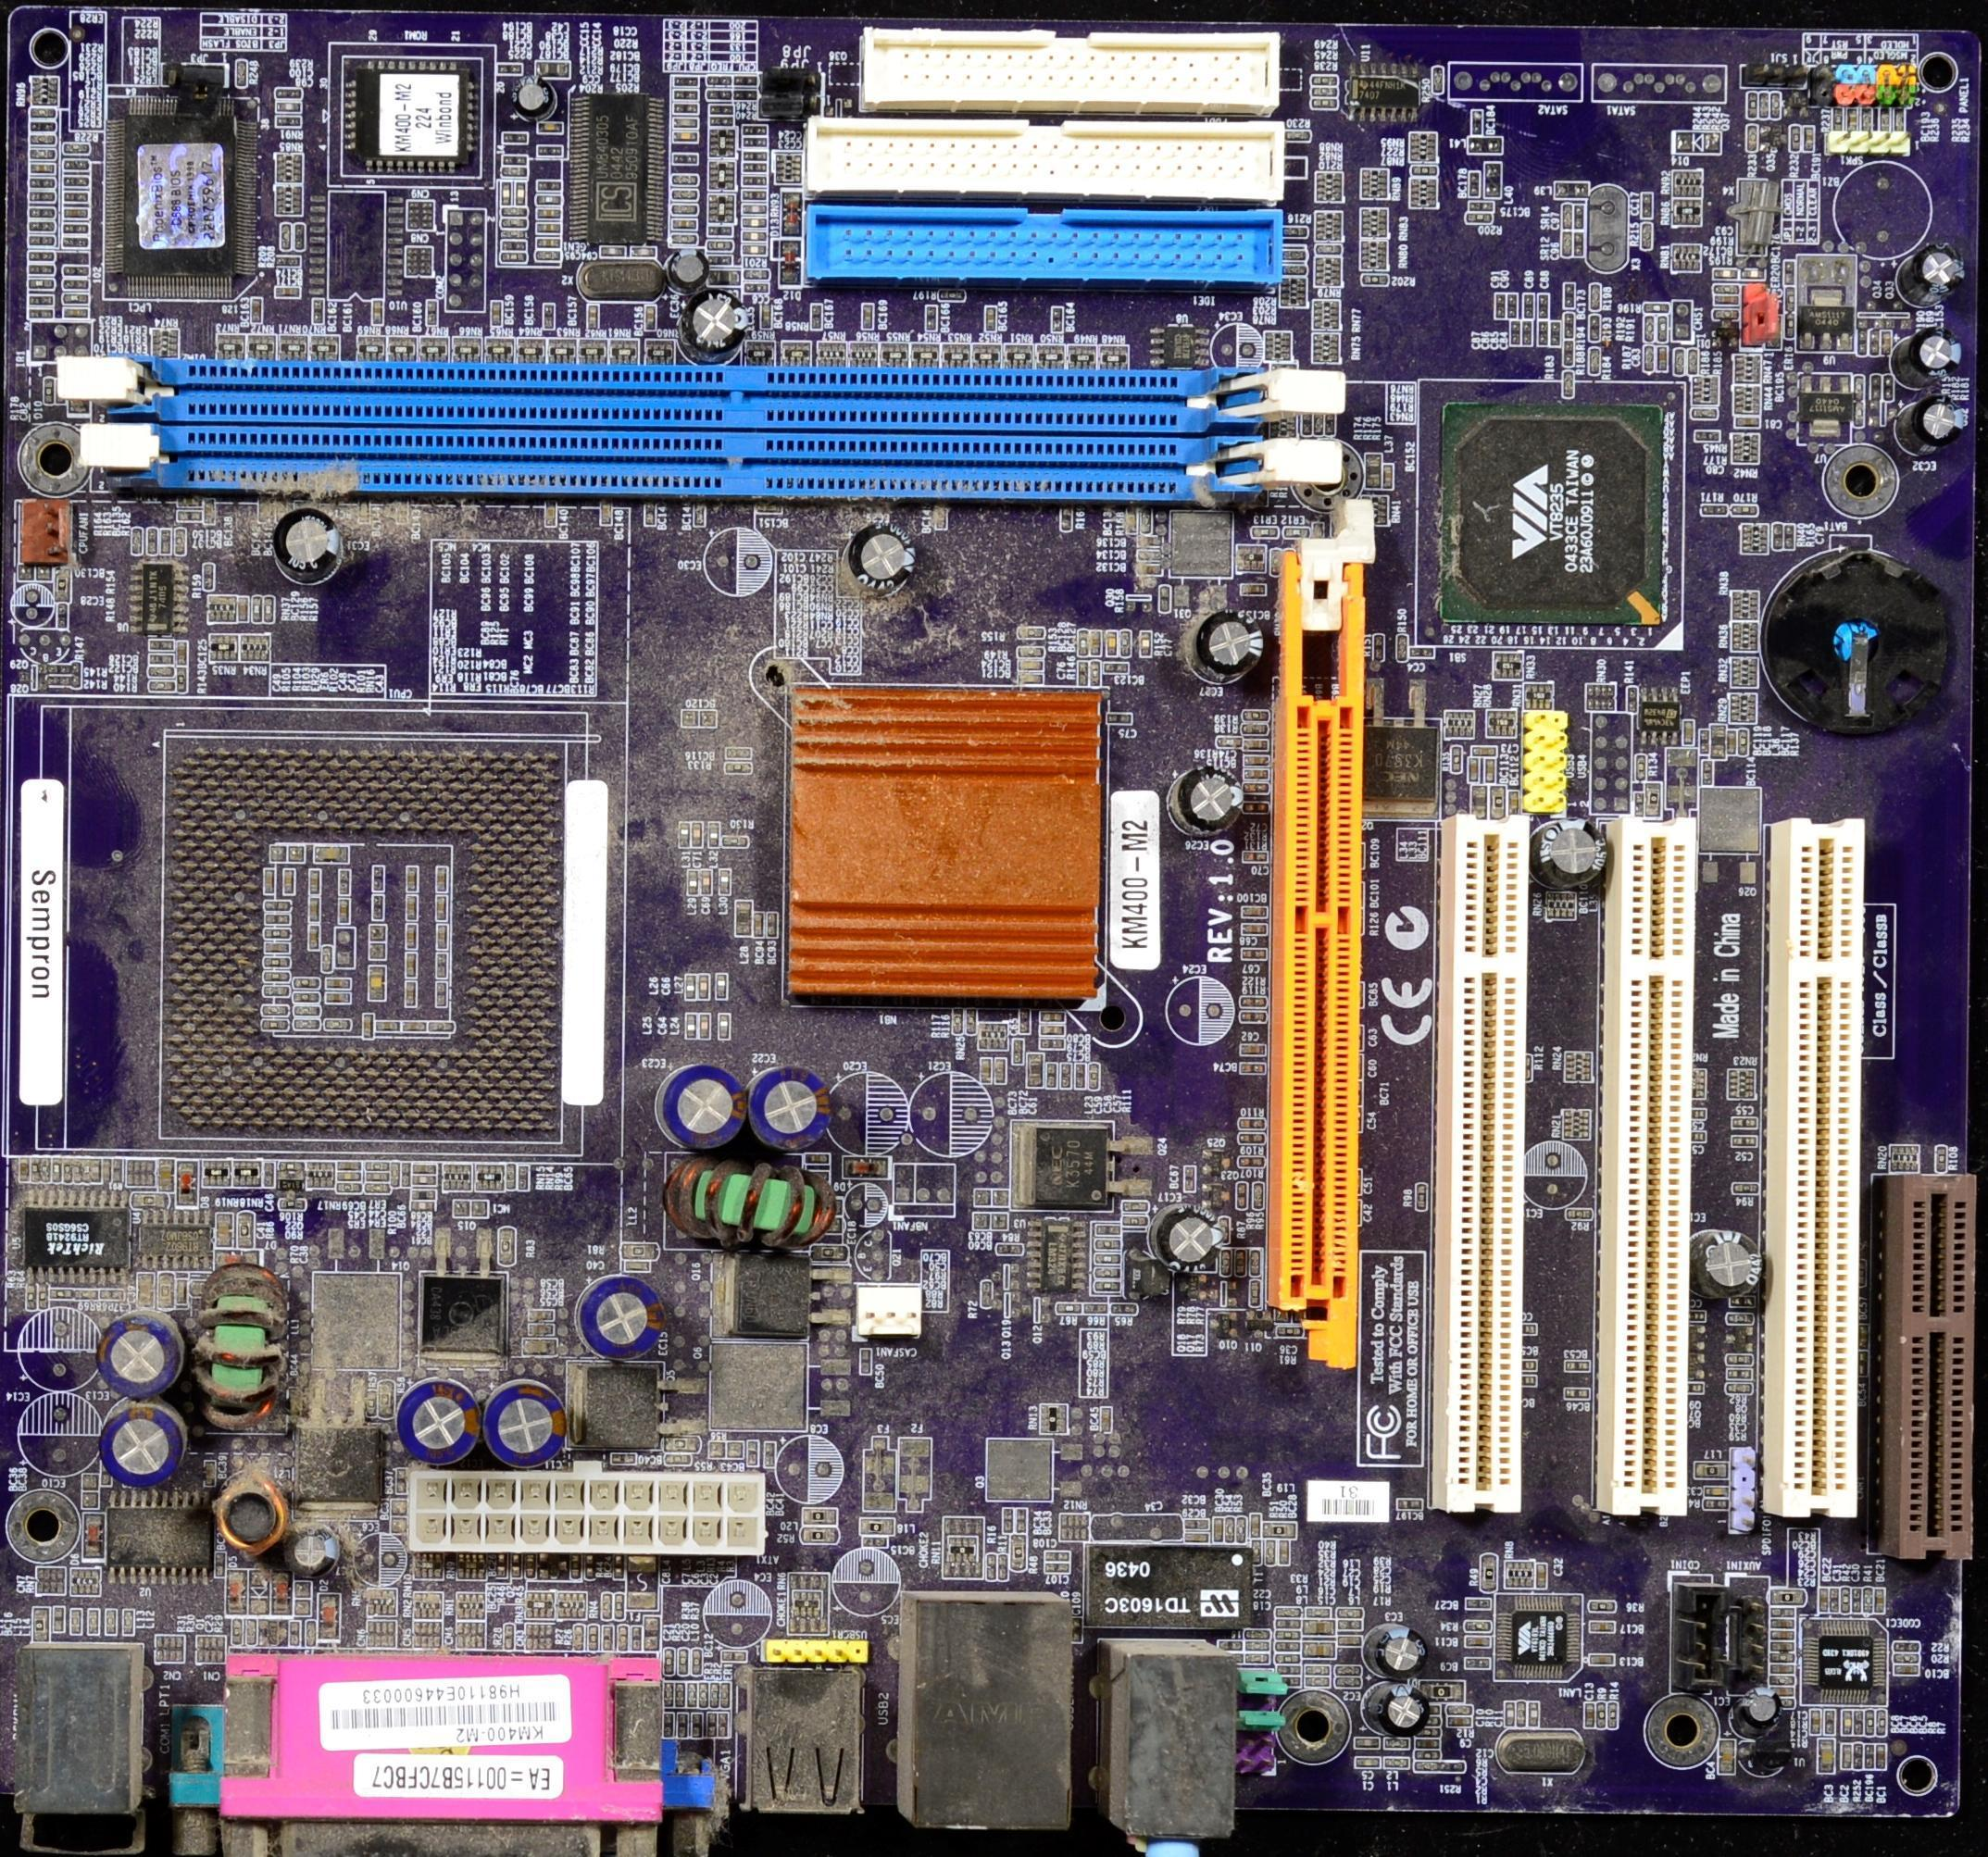Capacitor: (1531, 806, 1612, 888), (1690, 1230, 1770, 1302), (1378, 1682, 1432, 1741), (1375, 1626, 1434, 1675), (1010, 1536, 1026, 1575), (1301, 1642, 1338, 1657), (1444, 1712, 1475, 1727), (499, 179, 515, 209), (1534, 291, 1549, 322), (337, 1158, 365, 1174), (217, 1216, 232, 1244), (1704, 1483, 1732, 1499), (1520, 321, 1535, 349), (1729, 1116, 1758, 1131), (663, 1647, 677, 1677), (1731, 1132, 1758, 1148), (333, 1182, 360, 1197), (1494, 293, 1509, 319), (1303, 1625, 1334, 1637), (1829, 1582, 1839, 1616), (1584, 1696, 1595, 1731), (1507, 294, 1519, 321), (1502, 1701, 1515, 1726), (1522, 294, 1535, 319), (1538, 323, 1551, 346), (1047, 1549, 1069, 1563), (1042, 1564, 1070, 1575), (1510, 319, 1520, 348), (1528, 1703, 1539, 1726), (1241, 951, 1265, 961), (619, 1261, 646, 1268), (1244, 924, 1266, 933), (1854, 1585, 1861, 1616), (515, 182, 524, 206), (1539, 1561, 1546, 1590), (1012, 1041, 1022, 1061), (277, 104, 300, 112), (336, 1172, 360, 1180), (1770, 1663, 1792, 1673), (502, 240, 525, 247), (435, 868, 444, 892), (698, 1010, 706, 1038), (693, 821, 699, 848), (1252, 1514, 1259, 1541), (1775, 1689, 1795, 1697), (1140, 635, 1148, 655), (1079, 661, 1086, 685), (702, 869, 708, 894), (1574, 208, 1582, 227), (747, 232, 767, 241), (1573, 232, 1581, 251), (1657, 348, 1664, 370), (1694, 432, 1715, 440), (1107, 634, 1113, 655), (1242, 741, 1264, 746), (407, 867, 414, 891), (1245, 770, 1263, 778), (1244, 1046, 1258, 1053), (1766, 1631, 1792, 1637), (290, 1624, 297, 1643), (635, 247, 655, 255), (1745, 271, 1764, 277), (1411, 650, 1429, 655), (1690, 1109, 1701, 1119), (1728, 1373, 1751, 1378), (696, 1653, 701, 1675), (700, 978, 707, 995), (1359, 1740, 1376, 1747), (1358, 1760, 1380, 1765), (1643, 195, 1649, 211), (1553, 324, 1559, 345), (1788, 525, 1793, 546), (366, 1173, 386, 1178), (278, 120, 296, 126), (1478, 745, 1493, 752), (267, 1166, 272, 1184), (1773, 1645, 1791, 1651), (745, 206, 763, 212), (1719, 271, 1731, 278), (746, 246, 762, 252), (1051, 1066, 1054, 1087), (1022, 1012, 1026, 1032), (1062, 1068, 1065, 1087), (1079, 1067, 1082, 1085), (744, 221, 762, 226), (1697, 1134, 1703, 1141), (1771, 1623, 1790, 1626)
Connector: (195, 436, 1161, 482), (181, 371, 1157, 415), (1795, 849, 1852, 1490), (1624, 852, 1680, 1514), (1298, 671, 1352, 1293), (1466, 825, 1504, 1481), (1912, 1186, 1964, 1531)
IC: (581, 95, 654, 235), (20, 1206, 138, 1270), (111, 1506, 206, 1565), (1510, 1608, 1569, 1667), (1030, 1221, 1078, 1289), (1803, 286, 1856, 343), (1821, 1631, 1872, 1686), (1807, 380, 1848, 433), (148, 1223, 208, 1259), (1353, 77, 1414, 106), (145, 567, 169, 630), (1646, 695, 1675, 732), (1168, 329, 1190, 367), (1757, 1746, 1784, 1770), (1734, 418, 1759, 429)
Resistor: (1481, 1551, 1499, 1593), (1060, 1513, 1086, 1540), (234, 57, 249, 91), (1057, 506, 1075, 534), (1932, 1145, 1948, 1175), (1017, 644, 1045, 659), (270, 89, 307, 101), (239, 1215, 254, 1246), (1304, 1672, 1332, 1688), (1465, 209, 1493, 226), (1077, 624, 1090, 658), (1014, 627, 1044, 640), (743, 159, 768, 174), (1701, 502, 1729, 517), (670, 87, 698, 102), (743, 123, 770, 138), (743, 188, 770, 203), (1307, 87, 1339, 99), (1789, 122, 1801, 153), (1335, 1608, 1367, 1620), (1588, 281, 1601, 313), (499, 1230, 514, 1256), (1272, 1622, 1307, 1632), (1307, 1664, 1333, 1677), (740, 135, 769, 146), (1863, 1587, 1874, 1615), (678, 1650, 689, 1679), (1515, 1699, 1528, 1728), (1732, 505, 1761, 517), (174, 527, 187, 556), (1311, 73, 1340, 86), (706, 115, 734, 127), (1275, 1608, 1305, 1620), (1465, 1621, 1492, 1633), (1143, 509, 1156, 538), (204, 564, 217, 592), (669, 152, 702, 163), (1891, 1640, 1922, 1651), (1002, 1510, 1015, 1537), (1244, 1626, 1270, 1639), (146, 530, 158, 555), (149, 679, 175, 692), (1634, 754, 1646, 779), (708, 90, 731, 103), (1019, 1508, 1031, 1538), (1305, 1608, 1334, 1618), (707, 225, 737, 235), (731, 76, 760, 86), (1567, 1209, 1592, 1221), (1108, 1302, 1132, 1315), (996, 1554, 1009, 1580), (743, 178, 767, 190), (1451, 746, 1463, 772), (1731, 1182, 1759, 1192), (986, 1553, 996, 1581), (1843, 1587, 1853, 1614), (1243, 1640, 1270, 1651), (265, 594, 275, 624), (673, 77, 702, 87), (1218, 1640, 1241, 1653), (1448, 1704, 1471, 1715), (804, 1532, 830, 1543), (744, 150, 769, 161), (133, 530, 143, 555), (55, 577, 64, 603), (252, 596, 262, 623), (148, 667, 174, 678), (1607, 1701, 1617, 1730), (1246, 803, 1268, 815), (1703, 1501, 1731, 1510), (1629, 686, 1638, 715), (735, 90, 757, 100), (505, 1165, 515, 1188), (1285, 130, 1307, 140), (669, 1441, 692, 1452), (232, 1619, 243, 1643), (706, 76, 730, 86), (711, 104, 737, 112), (306, 1622, 314, 1647), (1124, 1215, 1144, 1225), (1398, 633, 1406, 665), (675, 105, 699, 113), (267, 900, 291, 909), (1220, 1215, 1229, 1237), (1250, 1250, 1258, 1273), (537, 197, 561, 206), (1894, 1655, 1921, 1662), (1436, 65, 1444, 92), (1242, 1186, 1249, 1205), (277, 1201, 299, 1209), (1058, 1300, 1075, 1311), (1083, 1304, 1101, 1315), (1778, 1592, 1799, 1601), (246, 1617, 254, 1644), (500, 229, 525, 235), (1590, 318, 1599, 339), (1868, 380, 1878, 398), (1693, 410, 1719, 418), (1741, 730, 1747, 755), (266, 972, 289, 978), (426, 1022, 450, 1030), (1598, 1704, 1607, 1728), (723, 838, 747, 844), (966, 1013, 973, 1031), (264, 1019, 282, 1028), (1250, 1286, 1258, 1306), (1279, 1326, 1299, 1335), (1856, 380, 1864, 397), (1775, 527, 1783, 546), (298, 996, 315, 1006), (998, 1244, 1015, 1254), (577, 1626, 585, 1649), (65, 226, 87, 232), (725, 764, 747, 771), (296, 229, 305, 245), (1369, 275, 1386, 284), (1244, 999, 1263, 1005), (1225, 1250, 1232, 1270), (1233, 1252, 1241, 1273), (1096, 1265, 1118, 1272), (982, 1282, 989, 1304), (591, 1626, 597, 1646), (1773, 1651, 1788, 1661), (1283, 230, 1305, 237), (1658, 318, 1665, 338), (1592, 351, 1599, 372), (43, 380, 49, 402), (1120, 633, 1127, 654), (1419, 1186, 1425, 1212), (669, 1455, 686, 1464), (1771, 1676, 1788, 1684), (33, 179, 49, 187), (1246, 709, 1261, 717), (1248, 782, 1263, 791), (31, 148, 50, 156), (1241, 1069, 1265, 1075), (326, 1022, 344, 1029), (281, 1171, 299, 1178), (629, 1244, 646, 1251), (1253, 1545, 1260, 1563), (746, 268, 765, 275), (1648, 305, 1665, 312), (1305, 415, 1311, 432), (1094, 1256, 1118, 1263), (1856, 1745, 1861, 1767), (503, 207, 526, 213), (1644, 348, 1649, 370), (266, 991, 287, 997), (1315, 103, 1335, 107), (1092, 1068, 1096, 1090), (1244, 1139, 1264, 1142), (1254, 1183, 1259, 1204), (1895, 112, 1902, 128), (1866, 1712, 1871, 1734), (1286, 254, 1302, 259), (605, 1597, 608, 1616), (504, 1626, 510, 1644), (66, 162, 85, 168), (1878, 1712, 1883, 1731), (503, 255, 522, 259), (1646, 319, 1651, 339), (1567, 343, 1572, 363), (1678, 352, 1682, 371), (1373, 639, 1379, 657), (1094, 662, 1099, 680), (1594, 1601, 1608, 1607), (1287, 266, 1300, 272), (1834, 108, 1839, 126), (1865, 111, 1869, 129), (67, 178, 84, 183), (282, 224, 287, 250), (539, 252, 557, 256), (943, 294, 960, 300), (1885, 382, 1890, 399), (1857, 405, 1862, 423), (46, 665, 74, 669), (1242, 727, 1259, 731), (1218, 738, 1236, 743), (1230, 1518, 1234, 1543), (1749, 98, 1755, 114), (1882, 111, 1889, 128), (1096, 1243, 1111, 1248), (35, 124, 51, 130), (31, 136, 47, 141), (36, 194, 52, 199), (506, 222, 522, 227), (1717, 309, 1733, 314), (1317, 415, 1321, 431), (1325, 416, 1331, 431), (955, 1010, 958, 1033), (1526, 1056, 1530, 1078), (117, 1160, 121, 1184), (1095, 1284, 1119, 1288), (1239, 1515, 1244, 1538), (31, 209, 54, 213), (1245, 1118, 1260, 1124), (1122, 1203, 1144, 1207), (1728, 1387, 1749, 1390), (1644, 226, 1648, 246), (1719, 286, 1732, 291), (1567, 317, 1571, 336), (50, 679, 72, 683), (298, 980, 319, 984), (1750, 127, 1755, 147), (1267, 1544, 1273, 1557), (1780, 1702, 1792, 1706), (1763, 97, 1767, 115), (1242, 1162, 1258, 1165), (1731, 1358, 1749, 1362), (1567, 375, 1570, 393), (1773, 98, 1777, 114), (1693, 351, 1695, 369)
Transistor: (1017, 1128, 1105, 1199), (423, 1280, 501, 1355), (1369, 731, 1428, 802), (1244, 1317, 1267, 1343), (1181, 1278, 1205, 1299), (1219, 1315, 1240, 1338), (1206, 1183, 1223, 1205), (1788, 93, 1807, 112), (260, 1619, 275, 1642), (281, 1180, 305, 1193), (1207, 1153, 1219, 1173)
